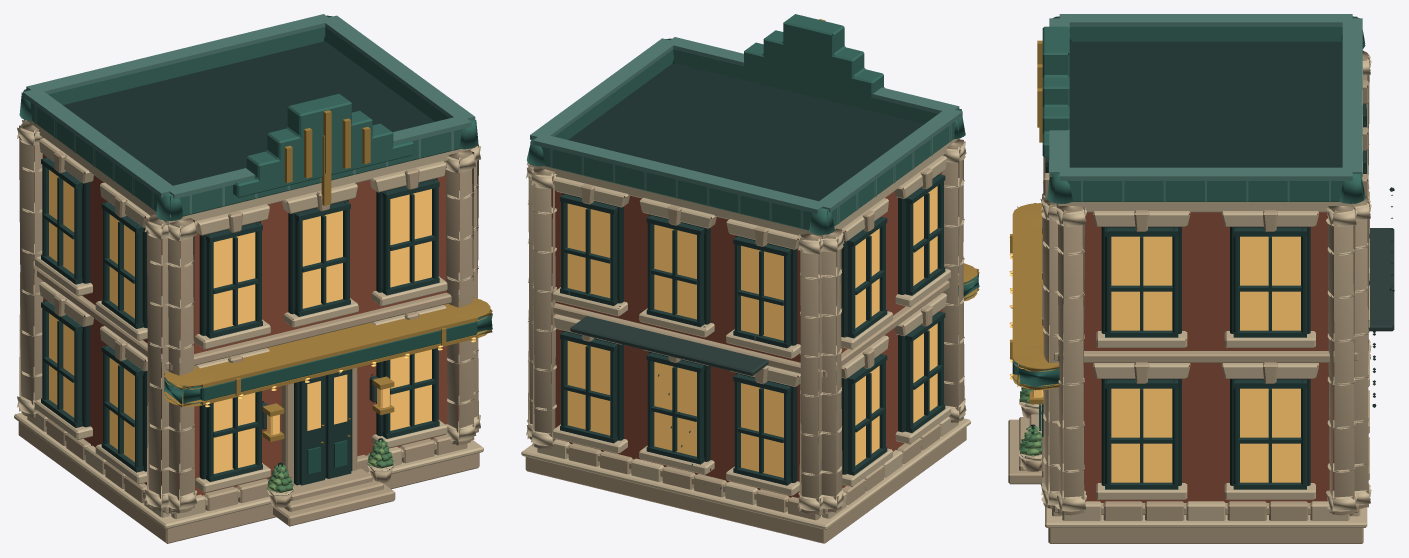
3 views of the same model, side by side, from view 1: azimuth 30°, elevation 25°; view 2: azimuth 150°, elevation 25°; view 3: azimuth 270°, elevation 25° (orthographic). The views are drawn at different scales.
Parts seen in each view (by area): view 1: expansion_hotel_2_geometry; view 2: expansion_hotel_2_geometry; view 3: expansion_hotel_2_geometry.
Boxes of the visible parts, x1,y1,x2,y2 form: expansion_hotel_2_geometry: (14, 14, 492, 543); expansion_hotel_2_geometry: (521, 14, 979, 543); expansion_hotel_2_geometry: (1008, 14, 1394, 543).
Size of the model in its own units: 0.9935 by 1.16 by 0.955.
